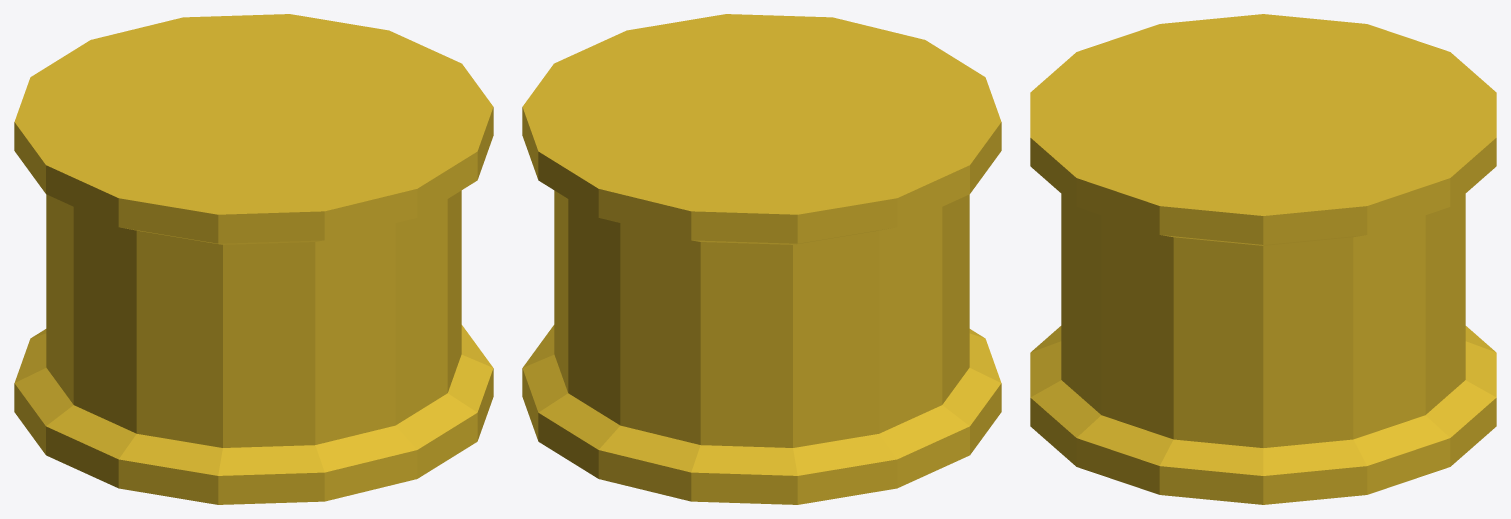
The model's file is pile_coins_whole.glb.
3 renders of one model, left to right at view 1: azimuth 30°, elevation 25°; view 2: azimuth 150°, elevation 25°; view 3: azimuth 270°, elevation 25°, orthographic.
Visible parts, largest first — view 1: pile_coins_whole_0; view 2: pile_coins_whole_0; view 3: pile_coins_whole_0.
Part boxes in pixels (x1=…): pile_coins_whole_0: x1=14, y1=14, x2=493, y2=504; pile_coins_whole_0: x1=522, y1=14, x2=1001, y2=504; pile_coins_whole_0: x1=1030, y1=14, x2=1496, y2=504.
Bounding box in the file's own units: 0.6 × 0.4 × 0.585.
